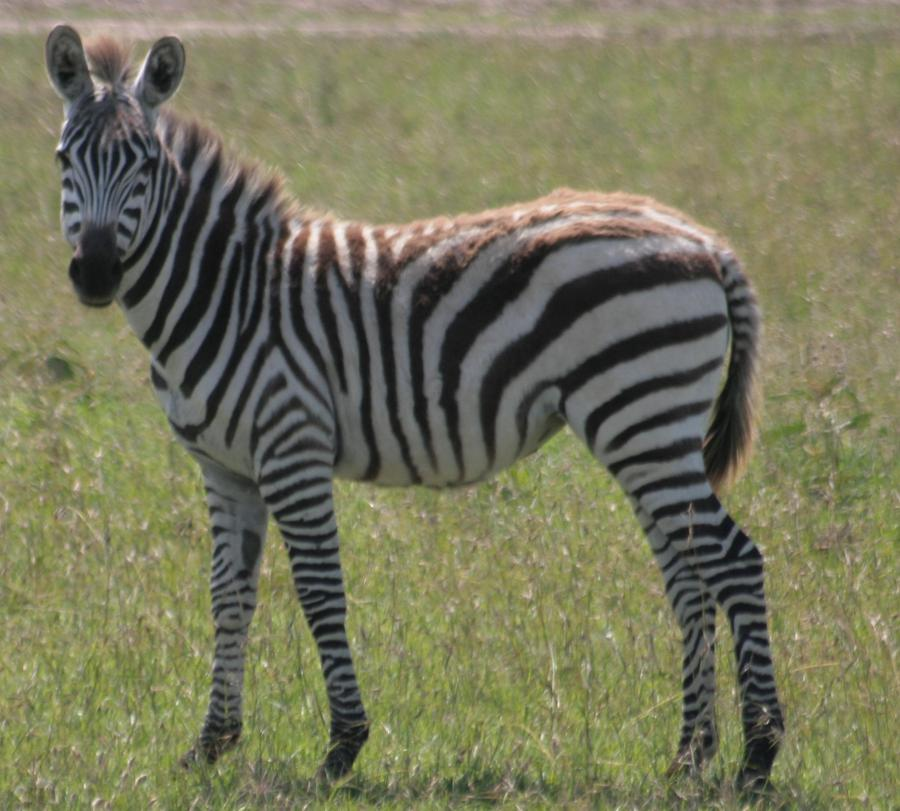zebra_plains: (165, 185, 755, 476)
